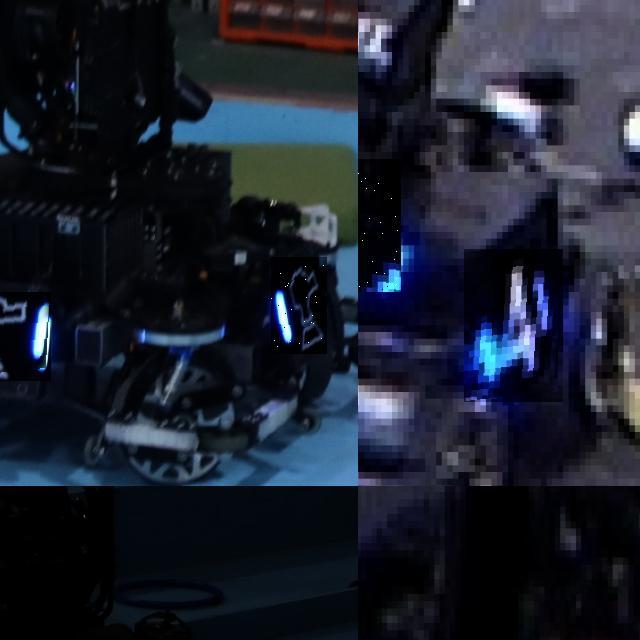B4: (464, 249, 563, 402)
Bs: (271, 258, 327, 356), (0, 292, 51, 381)
